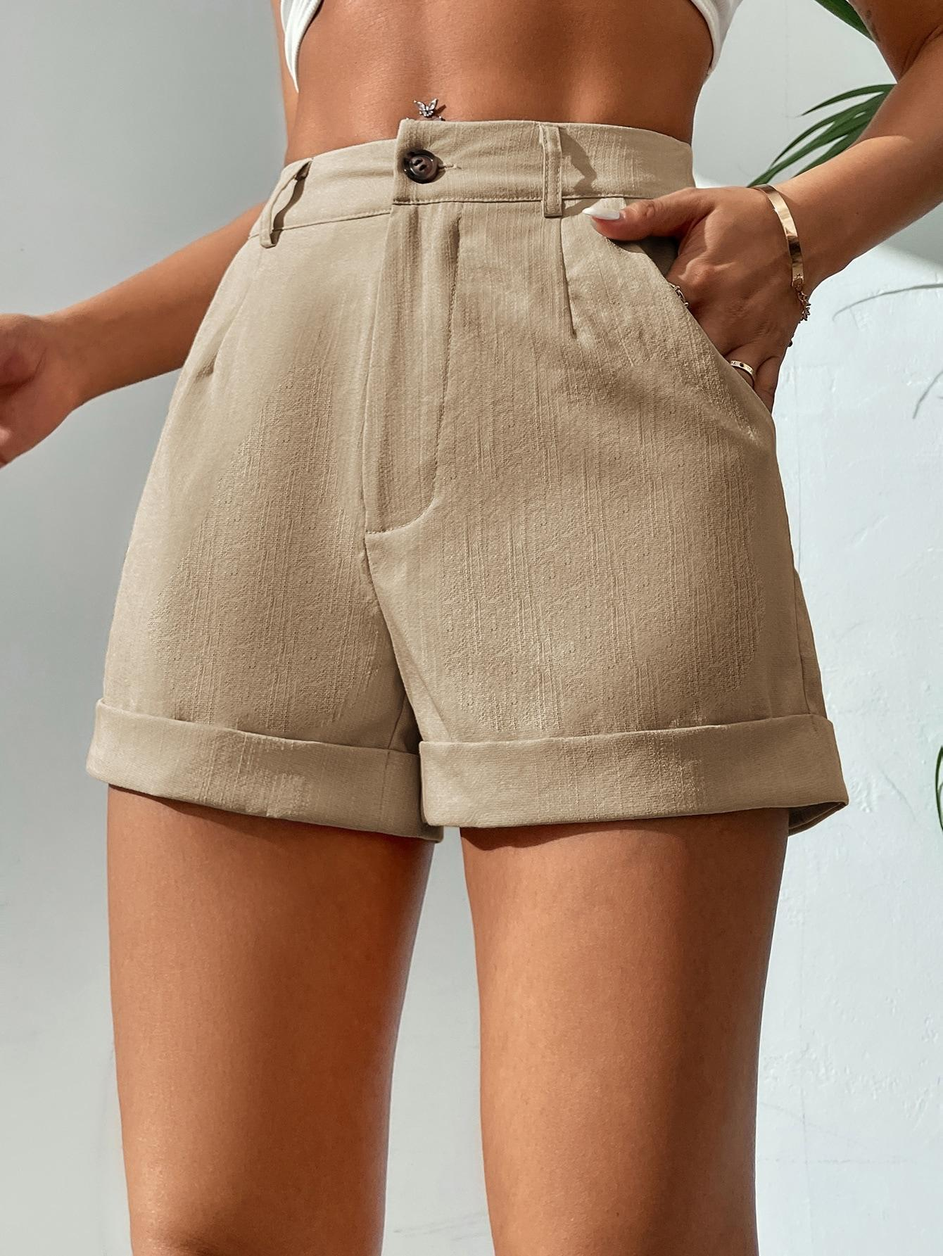Shorts: (83, 113, 857, 842)
